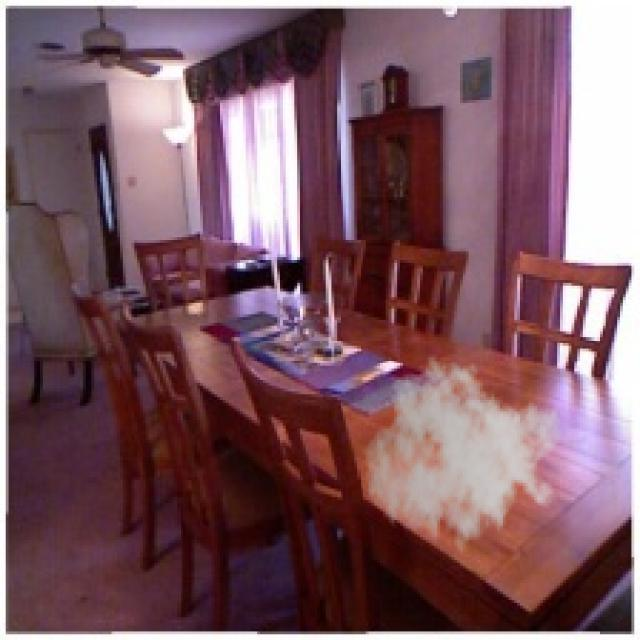Smoke: (363, 354, 563, 566)
